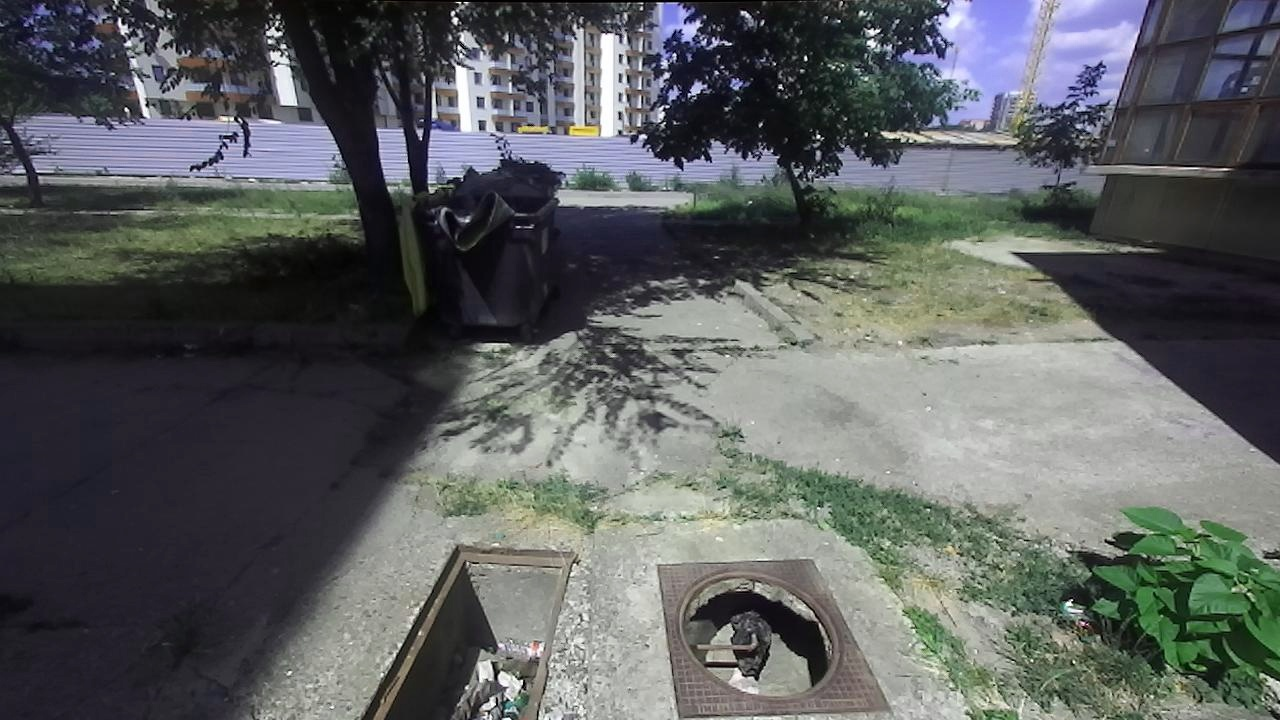drain: (358, 538, 577, 719), (674, 567, 854, 698)
